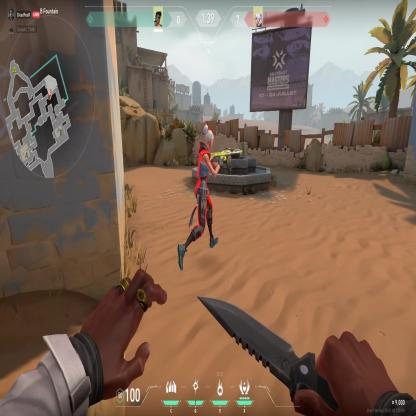enemy: (176, 120, 222, 271)
